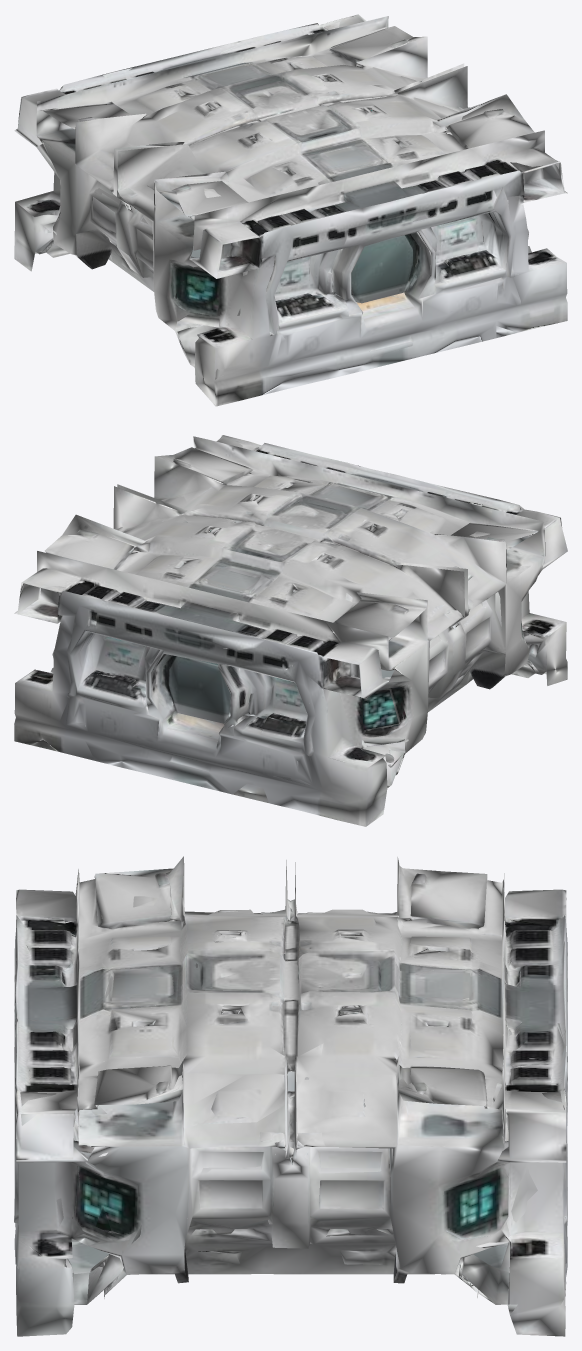
The model's file is capital_bridge.repacked.glb.
The picture shows the model from 3 angles, top to bottom: view 1: azimuth 30°, elevation 25°; view 2: azimuth 150°, elevation 25°; view 3: azimuth 270°, elevation 25°; orthographic projection. The views are drawn at different scales.
Visible parts, largest first — view 1: Mesh1.0; view 2: Mesh1.0; view 3: Mesh1.0.
Boxes of the visible parts, x1,y1,x2,y2 form: Mesh1.0: (14,14,567,406); Mesh1.0: (14,435,567,826); Mesh1.0: (14,856,567,1336).
Bounding box in the file's own units: 1.91 × 0.9493 × 1.91.
Materials: 1 (1 with a texture image).
